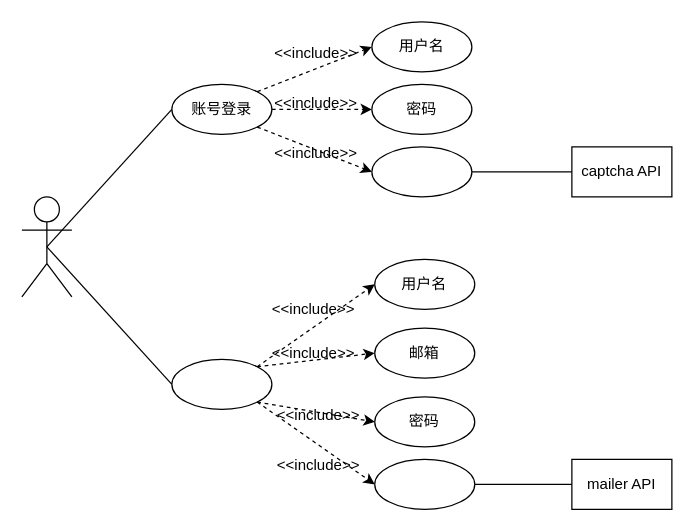
This 694x531 diagram has some shape labels left out. The shapes that lost their labels are listed below. From the top down, each one's box as (x1, y1, x2, y2) in pixels, then its label:
(371, 146, 472, 197): 图形验证码
(21, 196, 72, 297): User
(171, 358, 272, 409): 账号注册
(374, 458, 475, 509): 邮箱验证码
